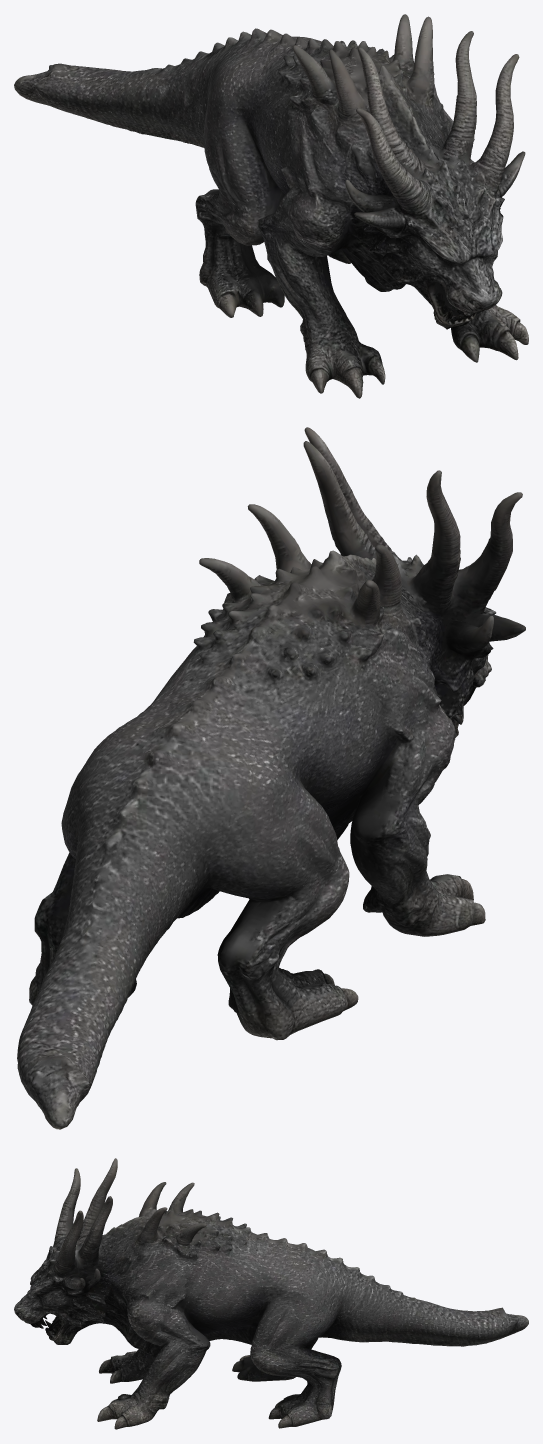
The model's file is beast4.glb.
3 views of the same model, one above another, from view 1: azimuth 30°, elevation 25°; view 2: azimuth 150°, elevation 25°; view 3: azimuth 270°, elevation 25° (orthographic). The views are drawn at different scales.
Parts seen in each view (by area): view 1: node_0; view 2: node_0; view 3: node_0.
Part boxes in pixels (x1=…): node_0: x1=14, y1=14, x2=528, y2=398; node_0: x1=17, y1=427, x2=525, y2=1129; node_0: x1=14, y1=1158, x2=528, y2=1429.
Size of the model in its own units: 0.3406 by 0.5289 by 1.13.
1 material, 1 textured.
